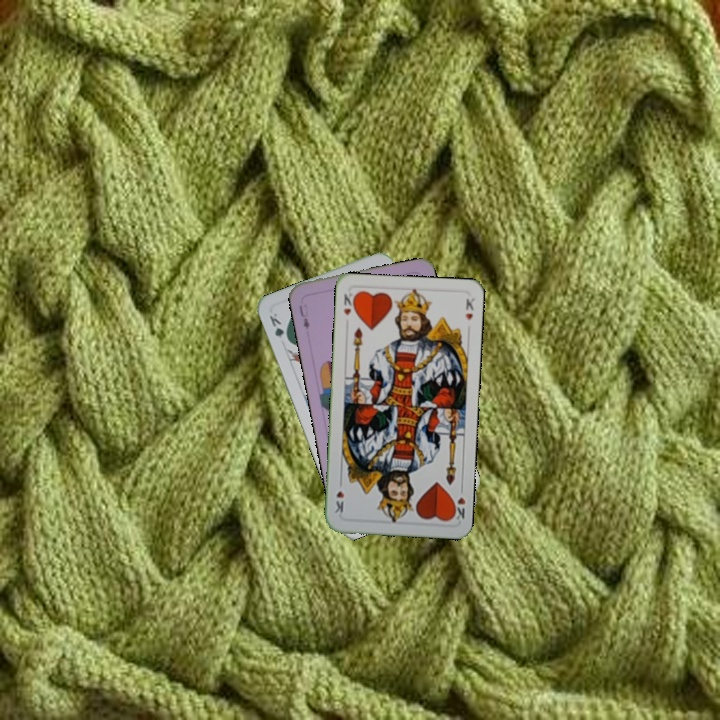EU: (295, 301, 312, 332)
GK: (265, 309, 292, 345)
HK: (448, 482, 468, 522), (339, 288, 358, 318)
